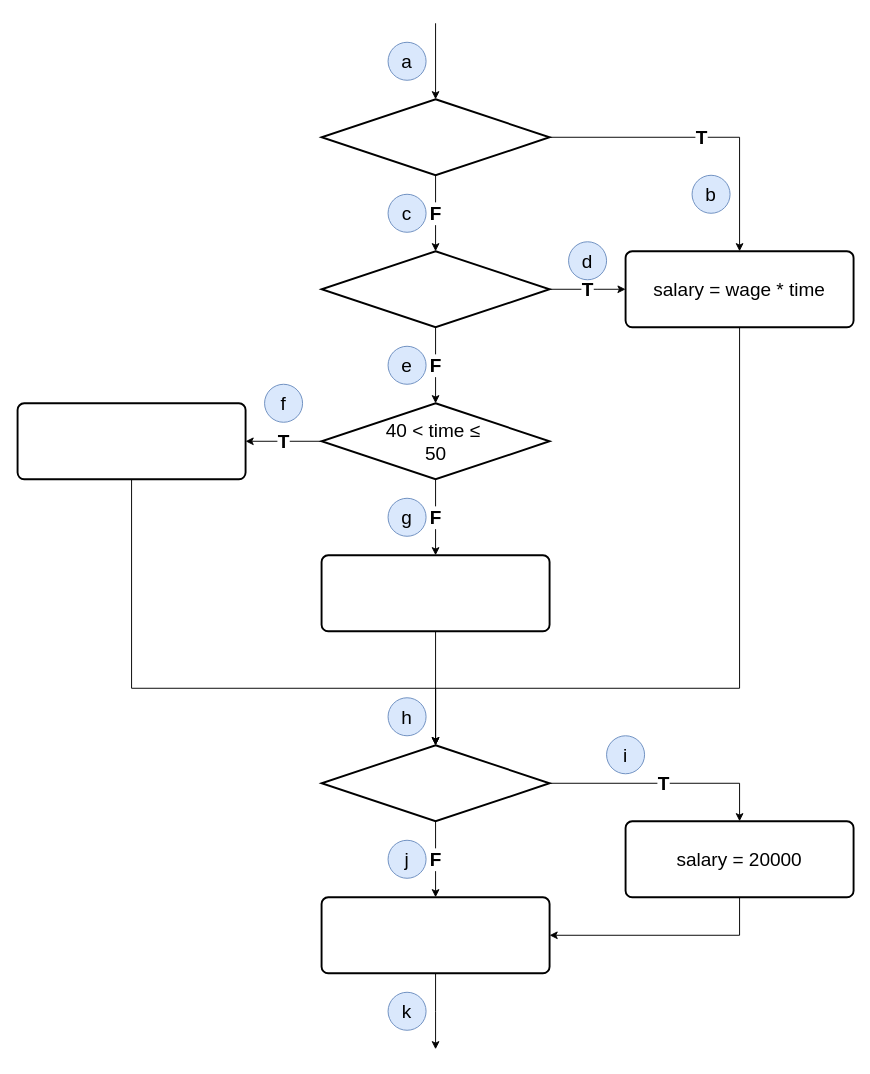
Image size: 870x1074. Some labels were removed from this diagram. Here are the shapes that lost their labels. From the top down, the centre of each, then its label:
point 435,137: wage>500
point 435,289: time ≤ 40
point 131,441: salary = (40 + (time - 40) * 2) * wage
point 435,593: salary = (40 + (50 - 40) * 2 + (time - 50) * 3) * wage
point 435,783: salary > 20000
point 435,935: return salary
